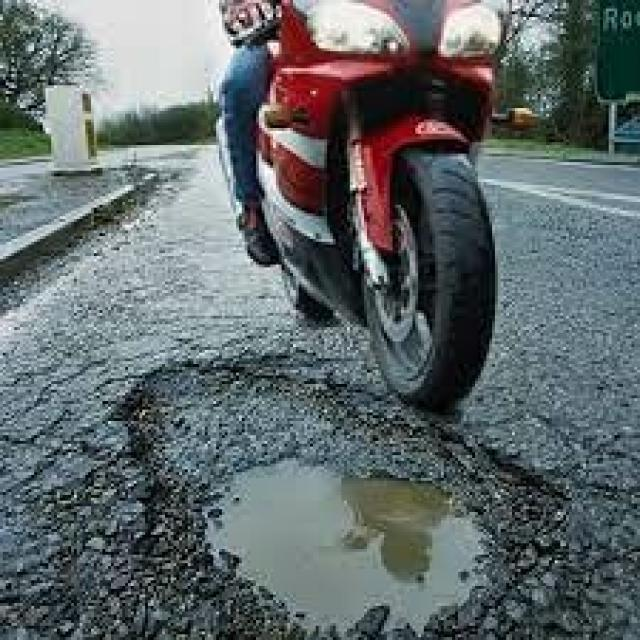Pothole: (2, 350, 615, 639)
